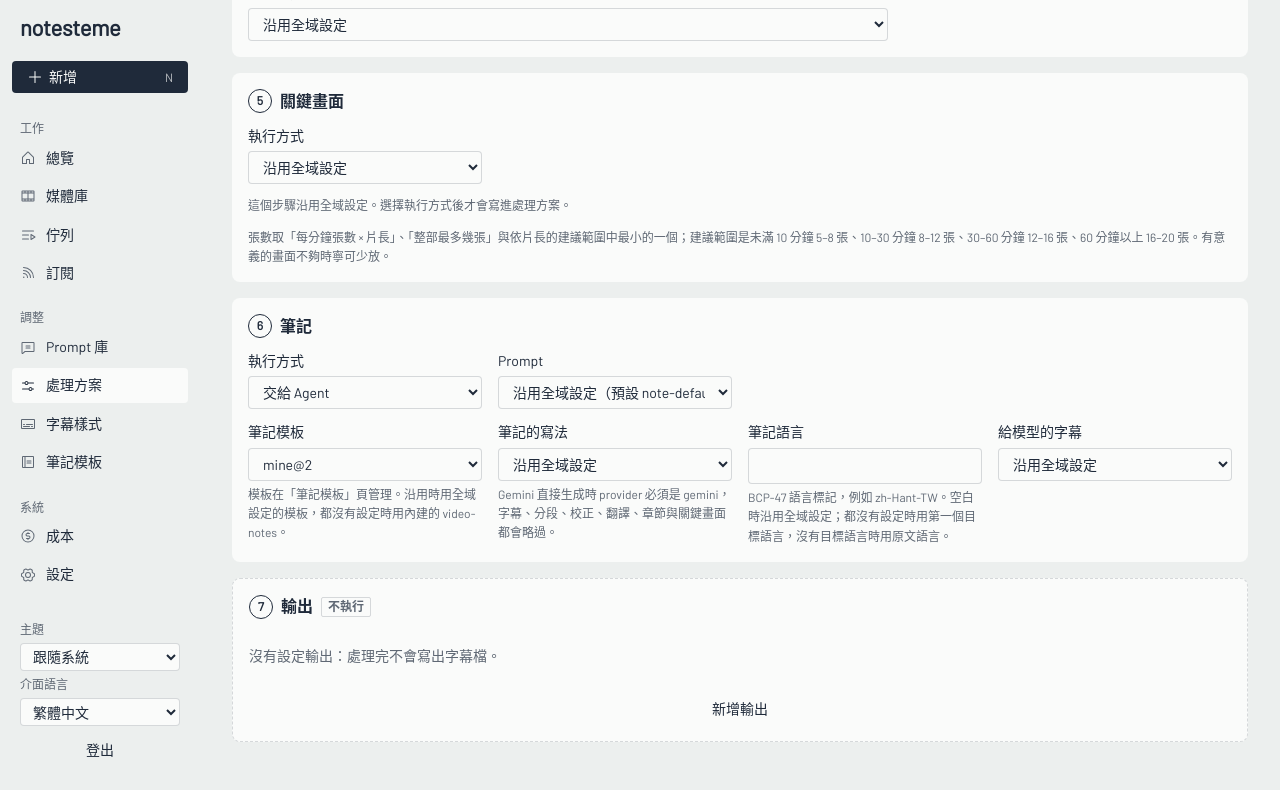
Test: 處理方案：編輯 › 筆記步驟改回沿用全域設定時，連同模板整段刪掉
This screenshot has width=1280, height=790.
(page scrolled)
Expected: the dropdown labelled "筆記模板" shows "mine@2", [248,448,482,481]
Select "沿用全域設定" in the 2nd dropdown labelled "執行方式" at (365, 393), box [248,376,482,409]
(page scrolled)
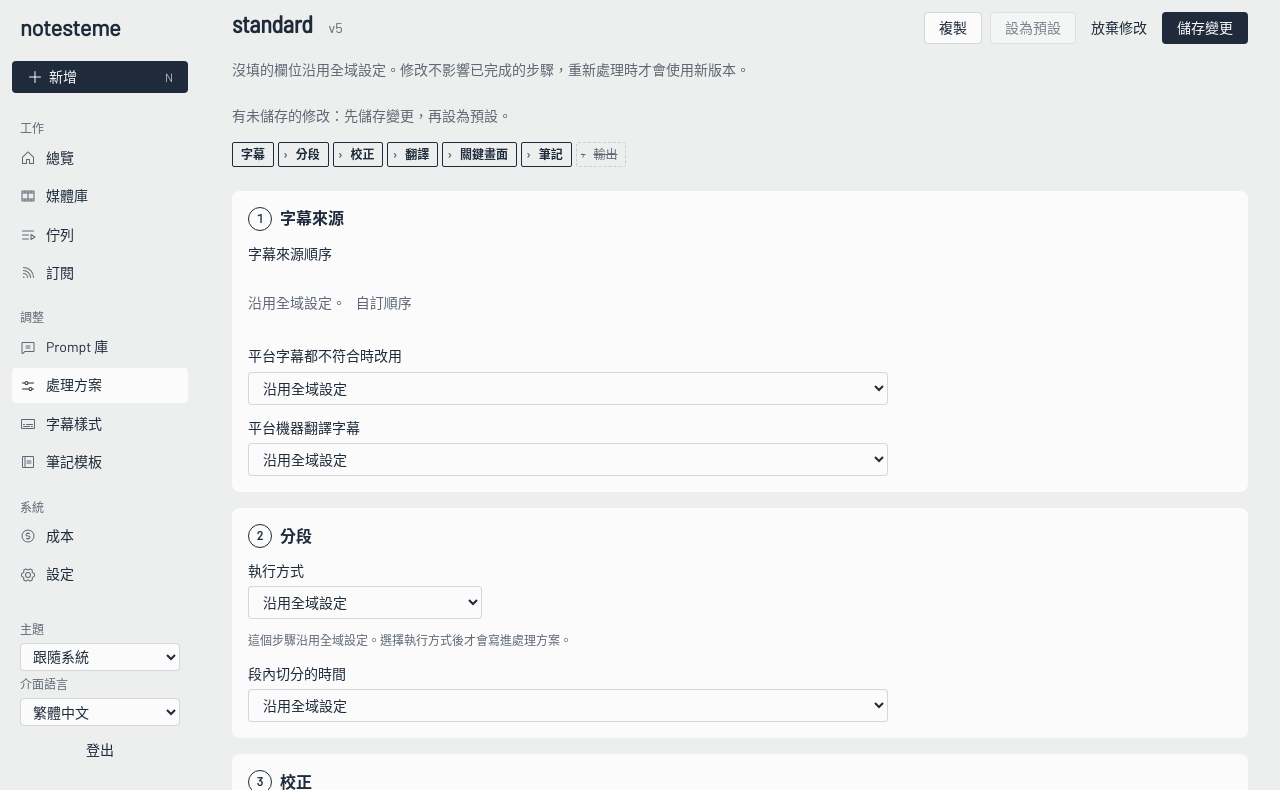
Click the button "儲存變更" at (1205, 28), box [1162,12,1248,44]
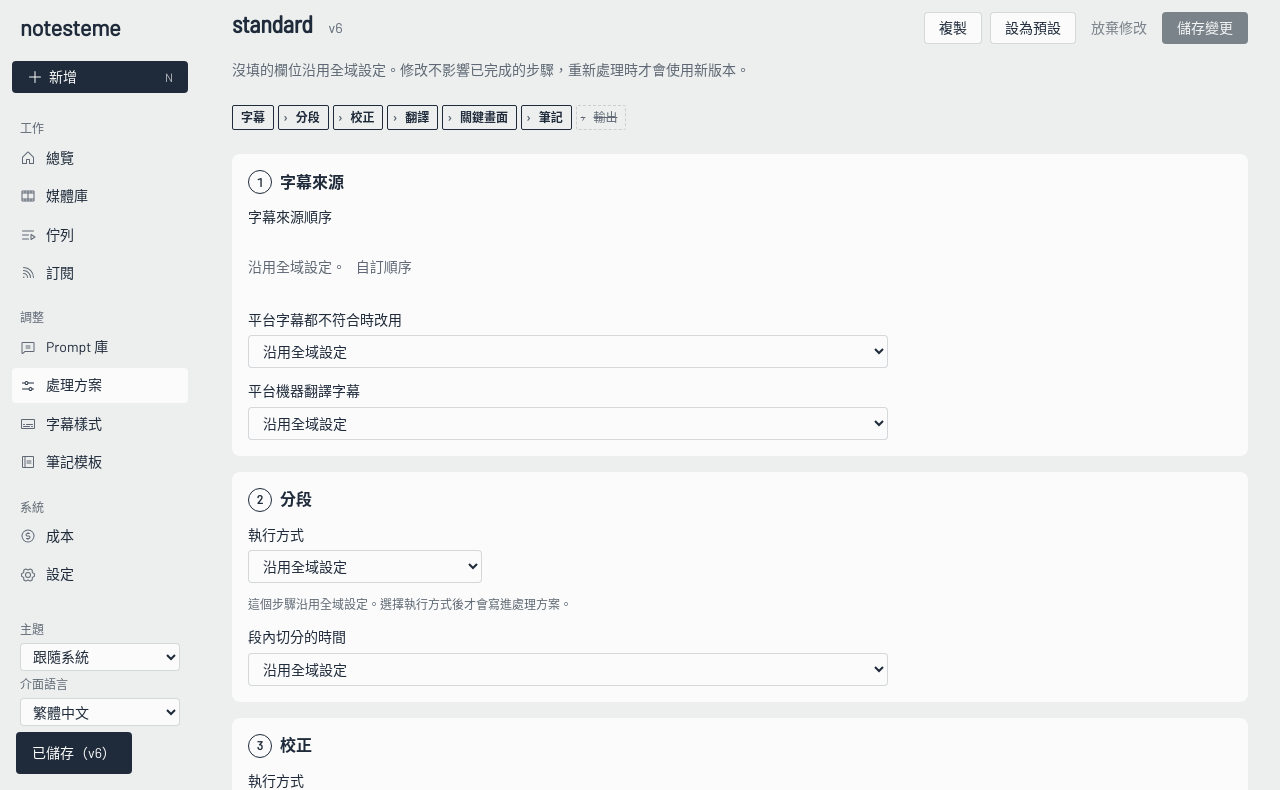
Expected: the text "已儲存（v6）" is shown, [32,742,116,764]
